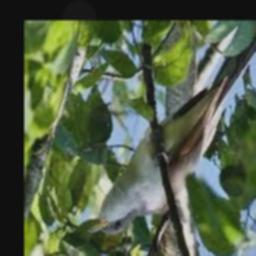Cuckoo: (88, 20, 256, 236)
